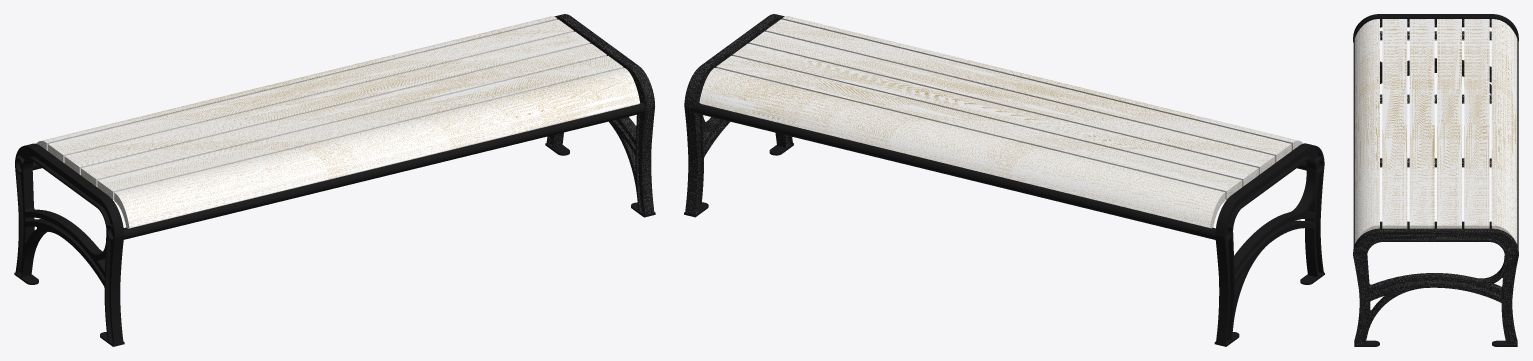
The picture shows the model from 3 angles, left to right: view 1: azimuth 30°, elevation 25°; view 2: azimuth 150°, elevation 25°; view 3: azimuth 270°, elevation 25°; orthographic projection. The views are drawn at different scales.
Visible parts, largest first — view 1: mesh4_mesh4-geometry, mesh6_mesh6-geometry, mesh7_mesh7-geometry, mesh8_mesh8-geometry, mesh3_mesh3-geometry, mesh22_mesh22-geometry, mesh21_mesh21-geometry, mesh24_mesh24-geometry, mesh5_mesh5-geometry; view 2: mesh5_mesh5-geometry, mesh6_mesh6-geometry, mesh7_mesh7-geometry, mesh3_mesh3-geometry, mesh8_mesh8-geometry, mesh22_mesh22-geometry, mesh19_mesh19-geometry, mesh24_mesh24-geometry, mesh4_mesh4-geometry; view 3: mesh24_mesh24-geometry, mesh5_mesh5-geometry, mesh3_mesh3-geometry, mesh6_mesh6-geometry, mesh8_mesh8-geometry, mesh4_mesh4-geometry, mesh7_mesh7-geometry, mesh22_mesh22-geometry, mesh19_mesh19-geometry, mesh21_mesh21-geometry, mesh1_mesh1-geometry, mesh2_mesh2-geometry (+1 smaller).
Boxes of the visible parts, x1,y1,x2,y2 form: mesh4_mesh4-geometry: (114, 68, 639, 228); mesh6_mesh6-geometry: (97, 56, 623, 199); mesh7_mesh7-geometry: (64, 31, 590, 175); mesh8_mesh8-geometry: (48, 19, 573, 163); mesh3_mesh3-geometry: (81, 43, 606, 187); mesh22_mesh22-geometry: (15, 143, 124, 344); mesh21_mesh21-geometry: (123, 102, 645, 239); mesh24_mesh24-geometry: (546, 14, 654, 215); mesh5_mesh5-geometry: (36, 16, 557, 150); mesh5_mesh5-geometry: (699, 68, 1225, 228); mesh6_mesh6-geometry: (765, 19, 1291, 162); mesh7_mesh7-geometry: (732, 43, 1258, 187); mesh3_mesh3-geometry: (749, 31, 1274, 174); mesh8_mesh8-geometry: (716, 55, 1241, 199); mesh22_mesh22-geometry: (1215, 143, 1324, 344); mesh19_mesh19-geometry: (693, 102, 1215, 239); mesh24_mesh24-geometry: (684, 14, 792, 214); mesh4_mesh4-geometry: (782, 16, 1302, 150); mesh24_mesh24-geometry: (1353, 228, 1518, 344); mesh5_mesh5-geometry: (1491, 19, 1517, 243); mesh3_mesh3-geometry: (1409, 19, 1434, 228); mesh6_mesh6-geometry: (1382, 19, 1407, 228); mesh8_mesh8-geometry: (1464, 19, 1489, 228); mesh4_mesh4-geometry: (1354, 19, 1379, 244); mesh7_mesh7-geometry: (1437, 19, 1461, 228); mesh22_mesh22-geometry: (1353, 14, 1518, 94); mesh19_mesh19-geometry: (1517, 40, 1518, 248); mesh21_mesh21-geometry: (1353, 40, 1354, 247); mesh1_mesh1-geometry: (1380, 158, 1491, 167); mesh2_mesh2-geometry: (1380, 94, 1491, 103).
Bounding box in the file's own units: 0.9274 × 0.2276 × 0.2963.
